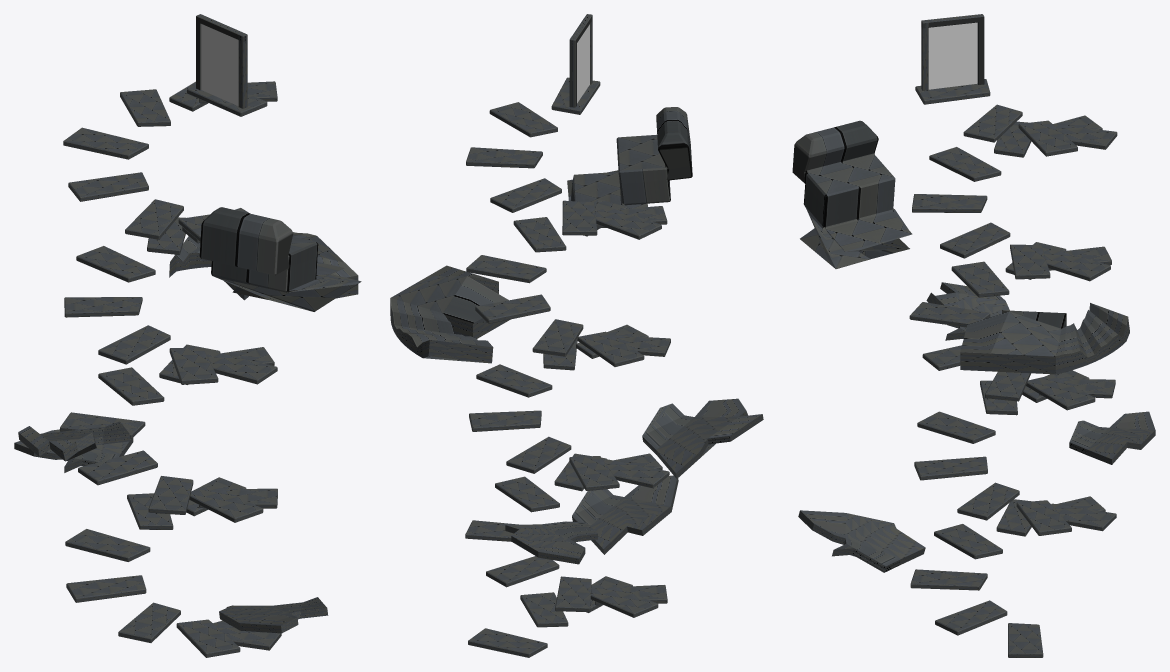
Rendered from StairwayToNowhere.fbx.
3 renders of one model, left to right at view 1: azimuth 30°, elevation 25°; view 2: azimuth 150°, elevation 25°; view 3: azimuth 270°, elevation 25°, orthographic. The views are drawn at different scales.
Parts seen in each view (by area): view 1: Cube, Cube.002, Plane, Cylinder, Cylinder.002, Cube.001, Cube.003, Cylinder.001; view 2: Cube, Cube.001, Cube.002, Cylinder.002, Cylinder, Cylinder.001, Cube.003, Plane; view 3: Cube, Cube.002, Cube.001, Cylinder, Plane, Cylinder.001, Cylinder.002, Cube.003.
Boxes of the visible parts, x1,y1,x2,y2 form: Cube: (60,81,281,657); Cube.002: (199,207,361,311); Plane: (201,24,238,105); Cylinder: (219,597,328,633); Cylinder.002: (18,421,130,461); Cube.001: (169,232,358,300); Cube.003: (196,14,247,108); Cylinder.001: (14,429,133,472); Cube: (465,77,670,657); Cube.001: (390,265,510,363); Cube.002: (567,107,692,208); Cylinder.002: (642,398,763,478); Cylinder: (572,475,678,554); Cylinder.001: (505,521,597,564); Cube.003: (569,14,592,107); Plane: (577,24,589,103); Cube: (909,79,1117,657); Cube.002: (792,120,912,268); Cube.001: (960,303,1129,374); Cylinder: (798,510,925,572); Plane: (928,22,977,89); Cylinder.001: (1069,411,1155,464); Cylinder.002: (926,282,1009,340); Cube.003: (921,14,984,90).
Bounding box in the file's own units: 11396 × 20751 × 11262.
2 materials, 1 textured.
